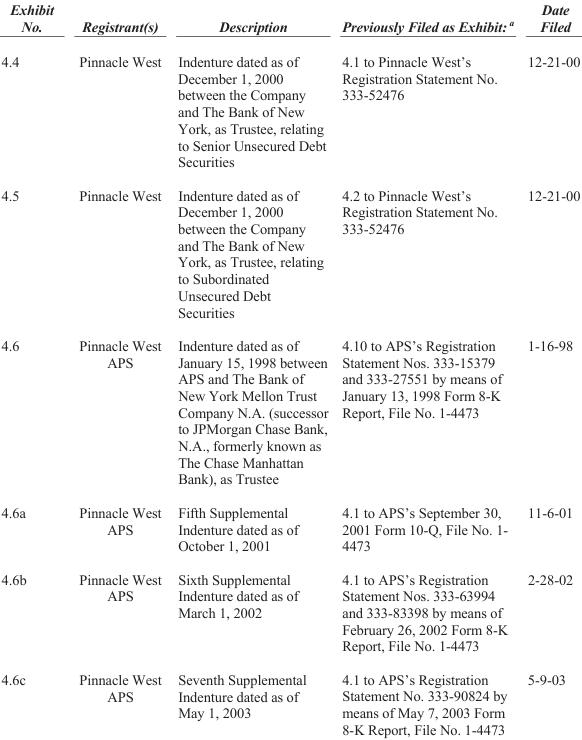table: (0, 1, 579, 737)
table column: (334, 1, 519, 737), (168, 1, 334, 737), (65, 1, 168, 737), (0, 1, 65, 737), (519, 1, 579, 737)
table column header: (0, 1, 579, 43)
table row: (0, 328, 579, 495), (0, 177, 579, 328), (0, 43, 579, 177), (0, 562, 579, 662), (0, 662, 579, 737), (0, 495, 579, 562), (0, 1, 579, 43)
